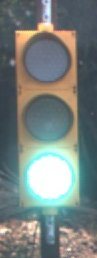Green: (5, 26, 88, 219)
